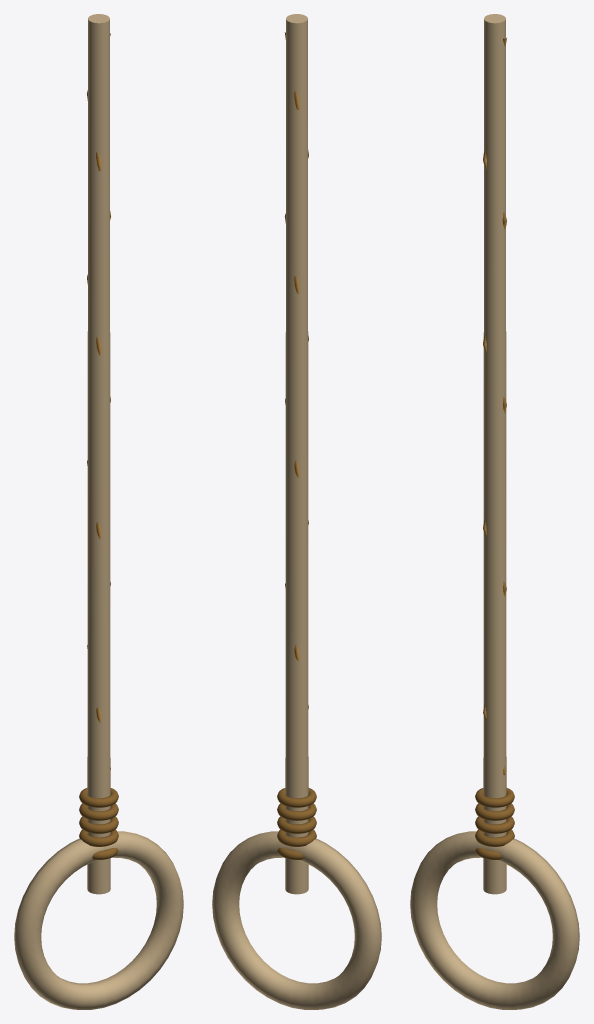
The model's file is mia-noose.glb.
3 views of the same model, side by side, from view 1: azimuth 30°, elevation 25°; view 2: azimuth 150°, elevation 25°; view 3: azimuth 330°, elevation 25° (orthographic).
Parts seen in each view (by area): view 1: Body_canvas, Body_hay-dark; view 2: Body_canvas, Body_hay-dark; view 3: Body_canvas, Body_hay-dark, Body_hay-mid.
Part boxes in pixels (x1,y1,x2,y2): Body_canvas: (14,14,183,1009); Body_hay-dark: (79,788,118,859); Body_canvas: (212,14,381,1009); Body_hay-dark: (277,788,316,859); Body_canvas: (410,14,579,1009); Body_hay-dark: (475,788,514,859); Body_hay-mid: (483,38,506,775).
Size of the model in its own units: 0.28 by 1.59 by 0.058.
